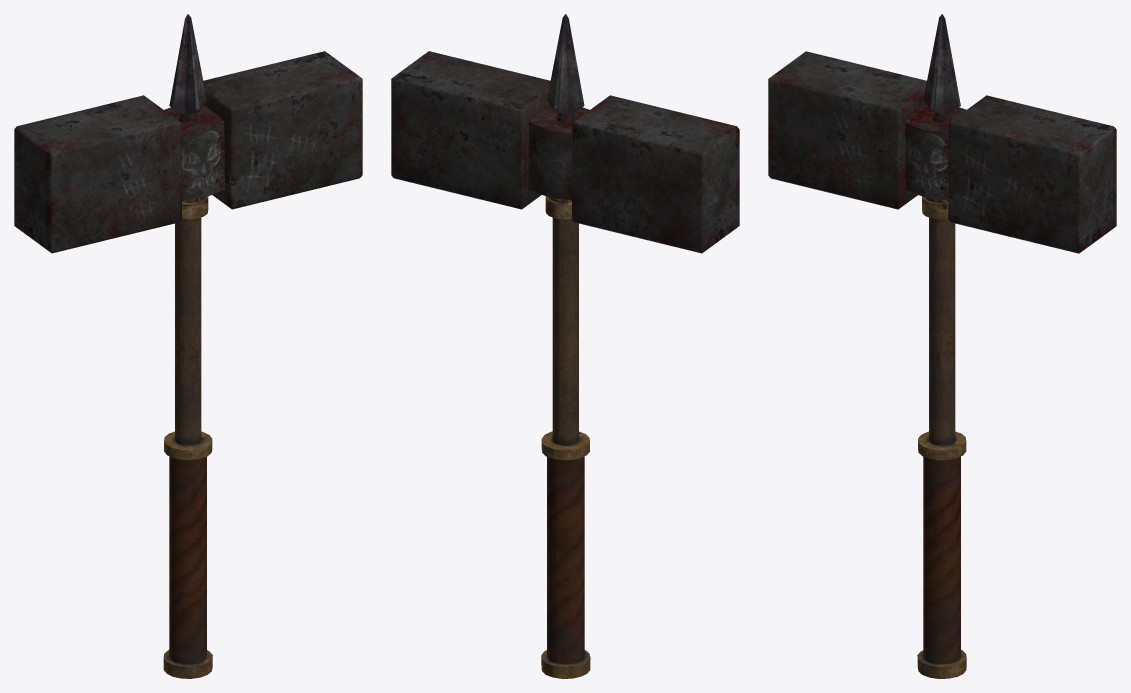
The model's file is hummer.fbx.
The picture shows the model from 3 angles, left to right: view 1: azimuth 30°, elevation 25°; view 2: azimuth 150°, elevation 25°; view 3: azimuth 330°, elevation 25°; orthographic projection.
Parts seen in each view (by area): view 1: Hammer Weapon; view 2: Hammer Weapon; view 3: Hammer Weapon.
Boxes of the visible parts, x1,y1,x2,y2 form: Hammer Weapon: [14, 14, 362, 678]; Hammer Weapon: [391, 14, 739, 678]; Hammer Weapon: [768, 14, 1116, 678].
Bounding box in the file's own units: 50.36 × 100 × 10.61.
